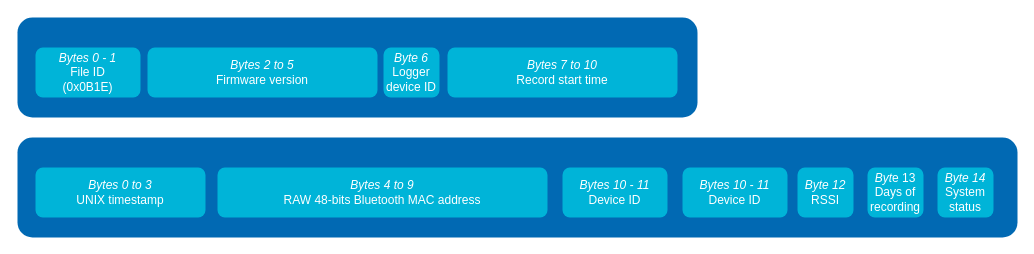
Some shapes in this 1034 by 254 pixel diagram are drawn without their labels. Here are the shapes that lost their labels. From the top down, the box of each, then its label:
(17, 17, 697, 117): Header (11 bytes)
(17, 137, 1017, 237): Device payload (15 bytes)
